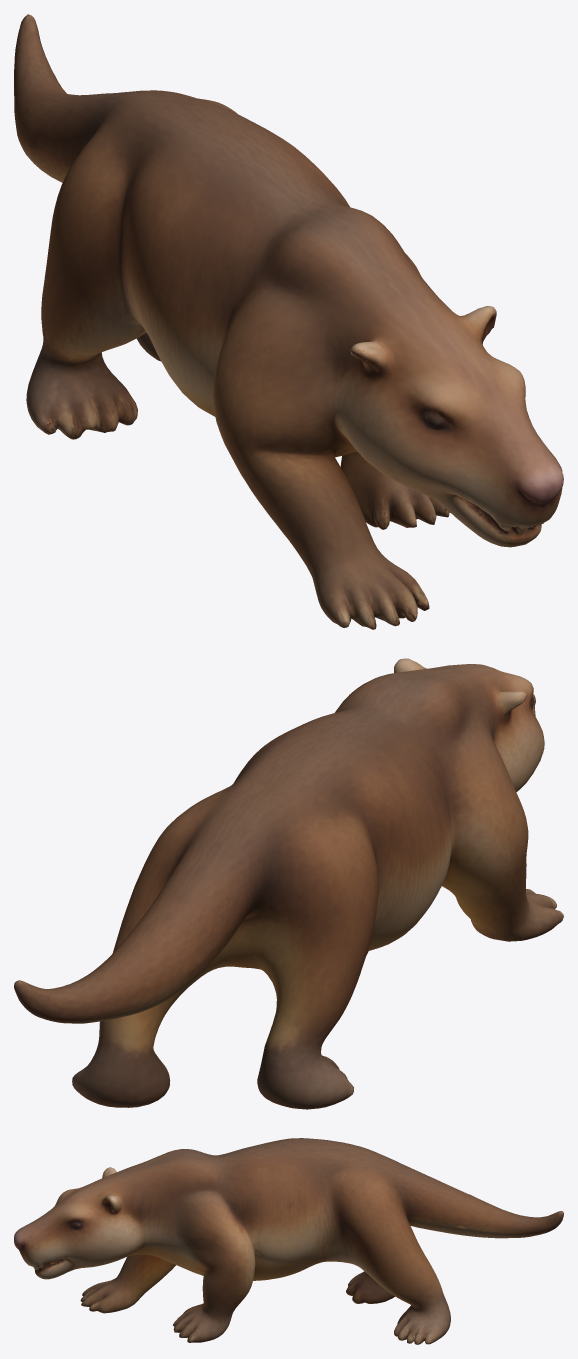
3 renders of one model, top to bottom at view 1: azimuth 30°, elevation 25°; view 2: azimuth 150°, elevation 25°; view 3: azimuth 270°, elevation 25°, orthographic. The views are drawn at different scales.
Visible parts, largest first — view 1: world; view 2: world; view 3: world.
Part boxes in pixels (x1,y1,x2,y2): world: (14,14,563,629); world: (14,658,563,1109); world: (14,1138,563,1344).
Bounding box in the file's own units: 0.2449 × 0.3059 × 0.9.
Materials: 1 (1 with a texture image).
